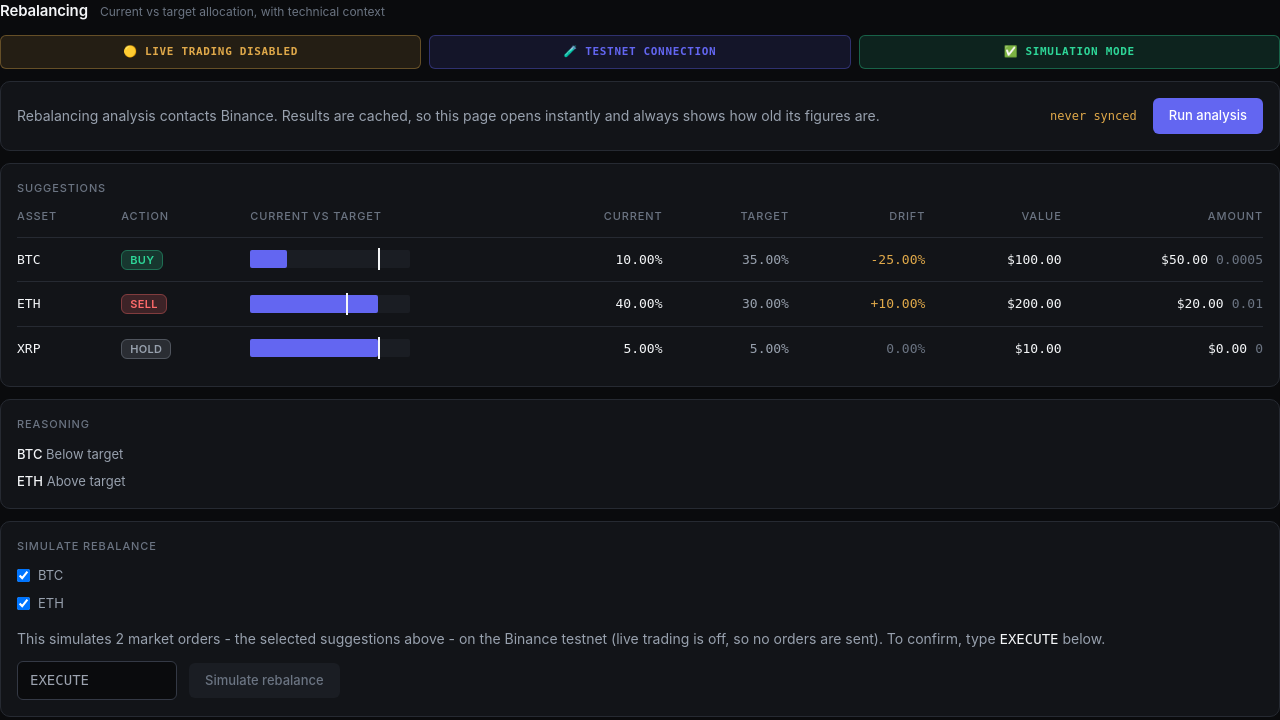
Scenario: Rebalance per-trade selection › disables execution and hints when nothing is selected
The width and height of the screenshot is (1280, 720).
What coordinates should you click on to do the following:
click the checkbox named "Include BTC"
I would click on:
 (24, 576)
Its box is [17,569,30,582].
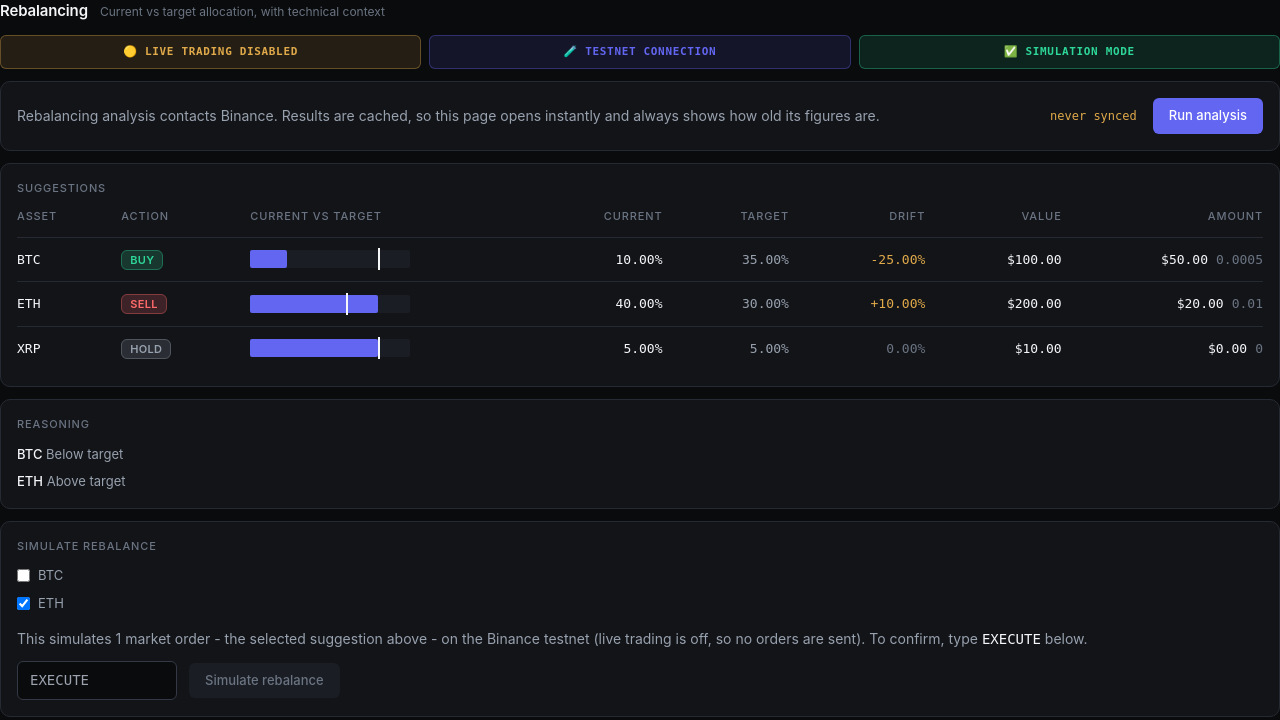
What coordinates should you click on to do the following:
click the checkbox named "Include ETH"
I would click on:
 (24, 603)
Its box is [17,597,30,610].
(page scrolled)
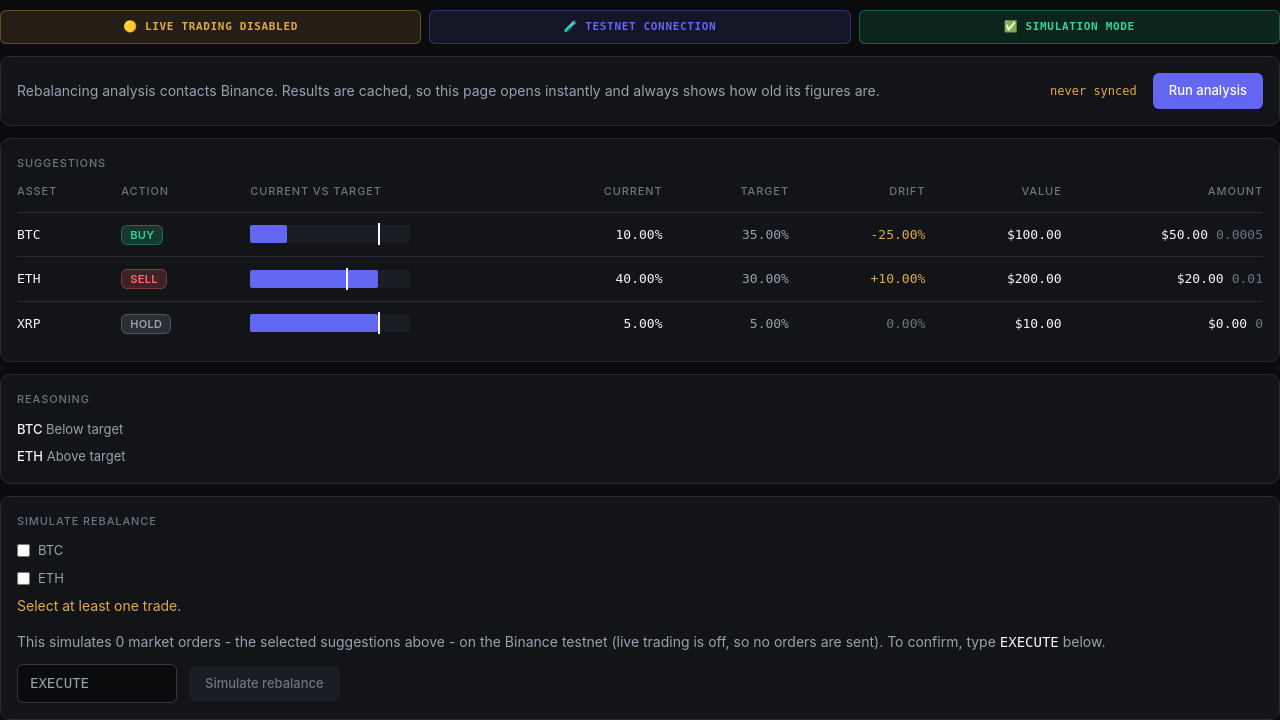
Check: the button "Simulate rebalance" is disabled, box [189,666,340,701]
Check: the text "Select at least one trade." is shown, box [17,597,181,614]
